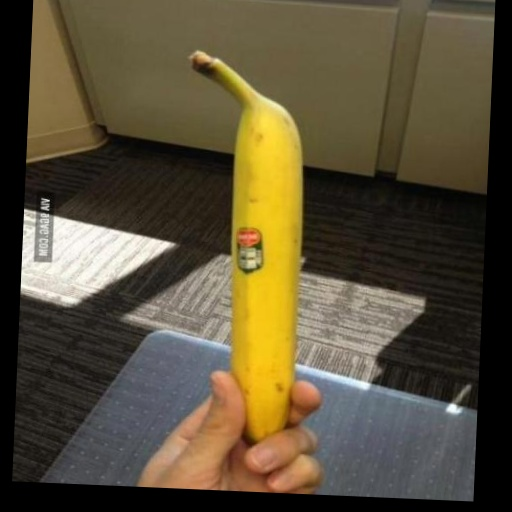fruit: (190, 52, 302, 441)
